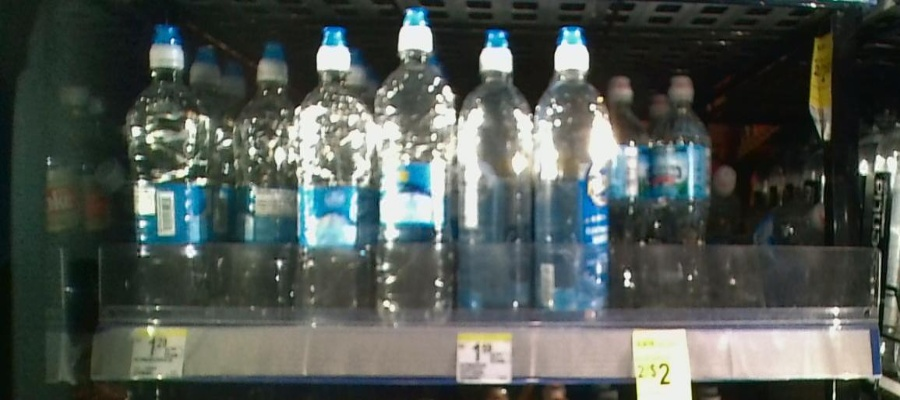bottle: (377, 5, 457, 327), (125, 15, 208, 319), (537, 19, 612, 322), (298, 21, 374, 313), (462, 20, 535, 322), (235, 40, 296, 315), (651, 77, 712, 310)
